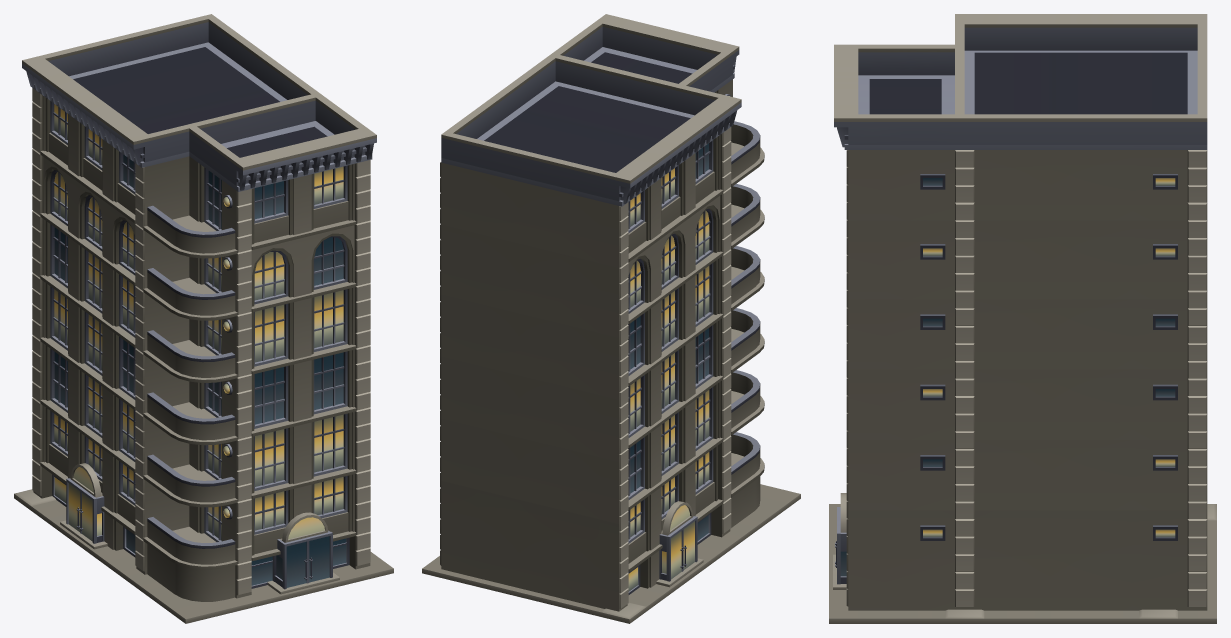
File: Building_16B.fbx
The picture shows the model from 3 angles, left to right: view 1: azimuth 30°, elevation 25°; view 2: azimuth 150°, elevation 25°; view 3: azimuth 270°, elevation 25°; orthographic projection. The views are drawn at different scales.
Visible parts, largest first — view 1: Building_16B, Window_Lights_16B; view 2: Building_16B, Window_Lights_16B; view 3: Building_16B, Window_Lights_16B.
Part boxes in pixels (x1,y1,x2,y2): Building_16B: [14, 14, 393, 623]; Window_Lights_16B: [54, 104, 343, 541]; Building_16B: [422, 14, 800, 623]; Window_Lights_16B: [628, 168, 709, 591]; Building_16B: [829, 14, 1216, 623]; Window_Lights_16B: [923, 178, 1175, 537].
Size of the model in its own units: 14 by 28.3 by 20.
